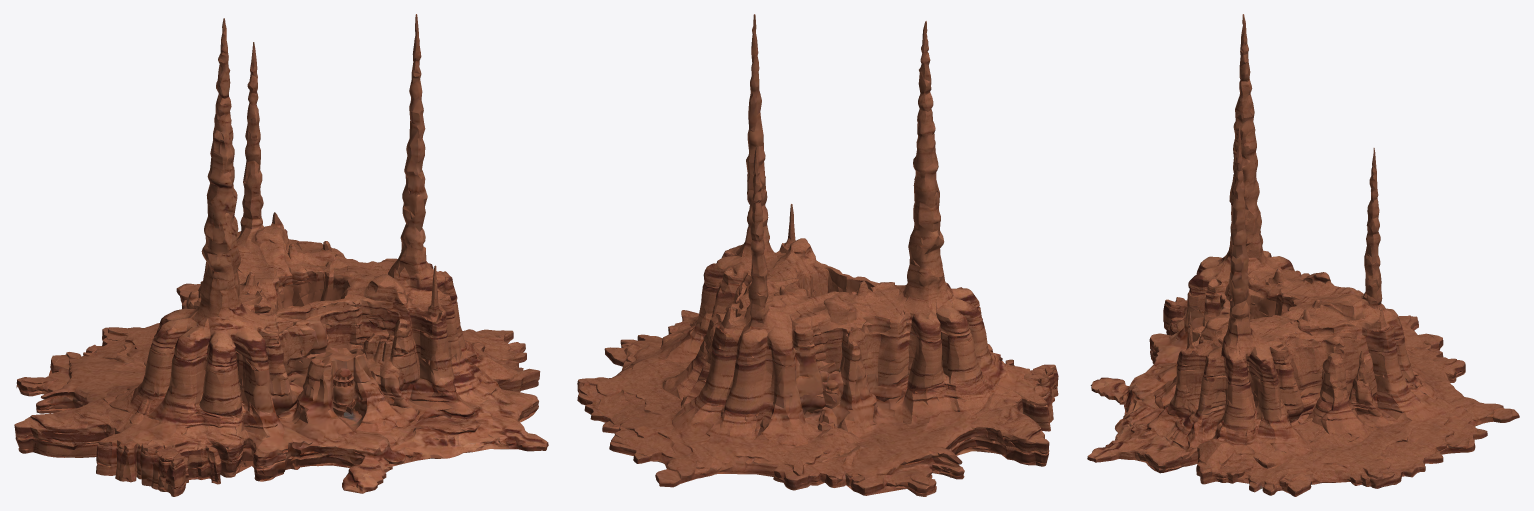
File: geohive.glb
The picture shows the model from 3 angles, left to right: view 1: azimuth 30°, elevation 25°; view 2: azimuth 150°, elevation 25°; view 3: azimuth 270°, elevation 25°; orthographic projection. The views are drawn at different scales.
Parts seen in each view (by area): view 1: geohive; view 2: geohive; view 3: geohive.
Part boxes in pixels (left/top/right/bottom): geohive: left=14, top=14, right=548, bottom=496; geohive: left=577, top=14, right=1058, bottom=496; geohive: left=1087, top=14, right=1519, bottom=496.
Bounding box in the file's own units: 184 × 150 × 167.
1 material, 1 textured.
